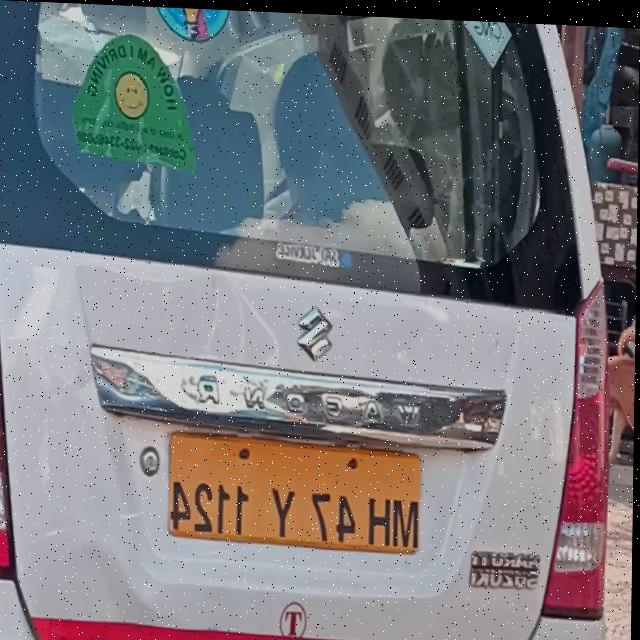plate: (168, 423, 424, 555)
